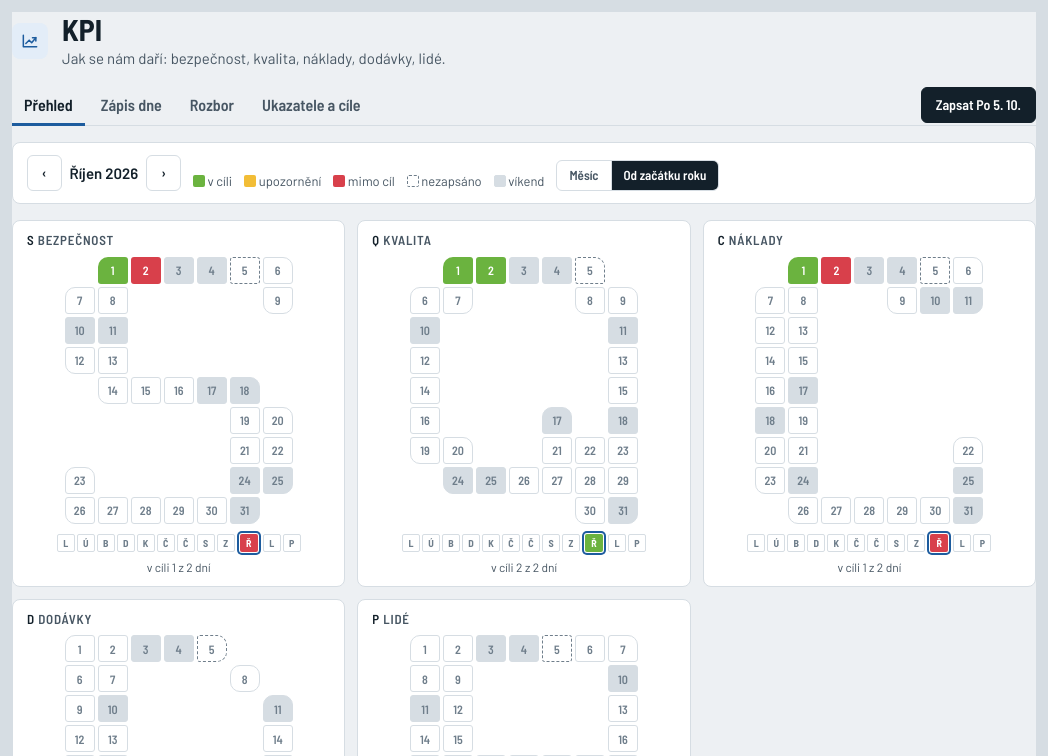
Test: KpiPage › pruh měsíců a přepnutí měsíce
Click the button named "Předchozí měsíc" at (44, 173), box x1=27 y1=155 x2=62 y2=191
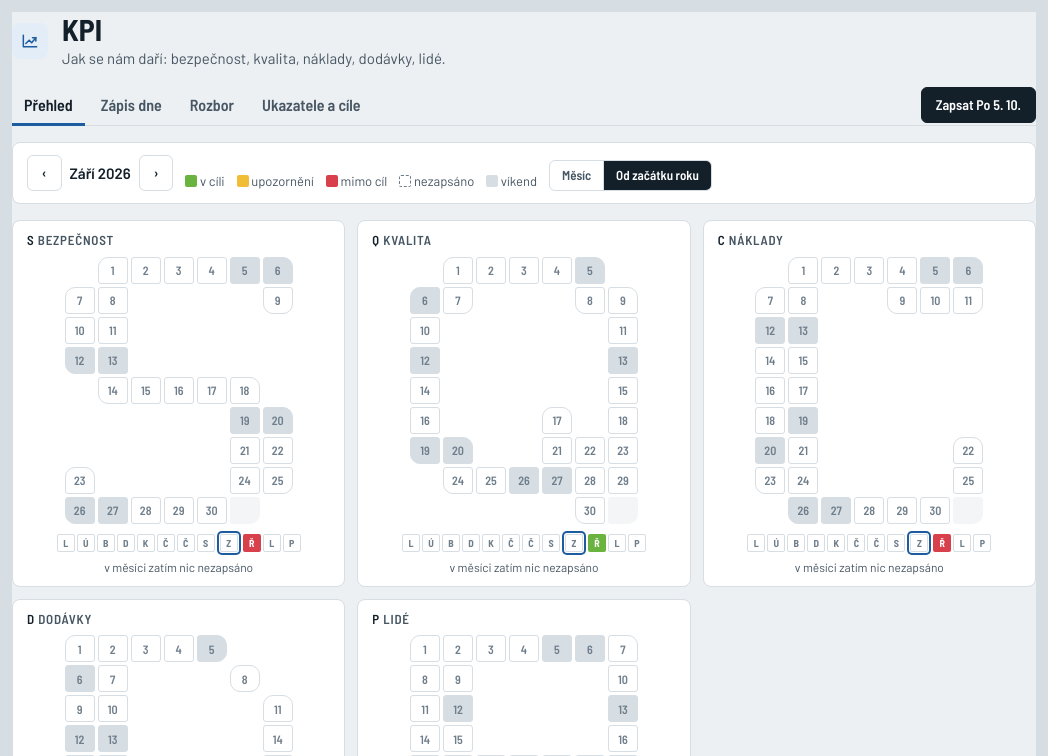
Expected: the text "Září 2026" is shown, x1=70 y1=162 x2=131 y2=184
